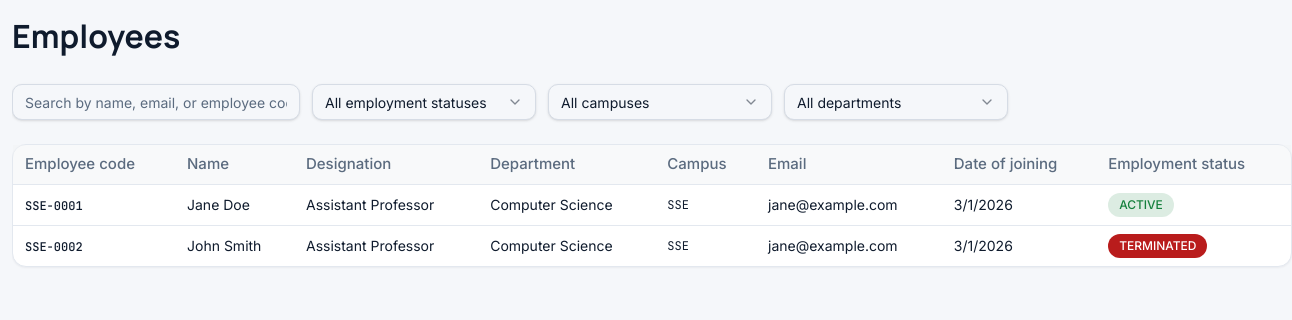
it: EmployeesListPage › narrows the list with the employment status filter
Expected: the text "Jane Doe" is shown, [175, 184, 294, 225]
Expected: the text "John Smith" is shown, [175, 225, 294, 266]
Click the dropdown named "Status filter" at (424, 102), box [312, 84, 536, 120]
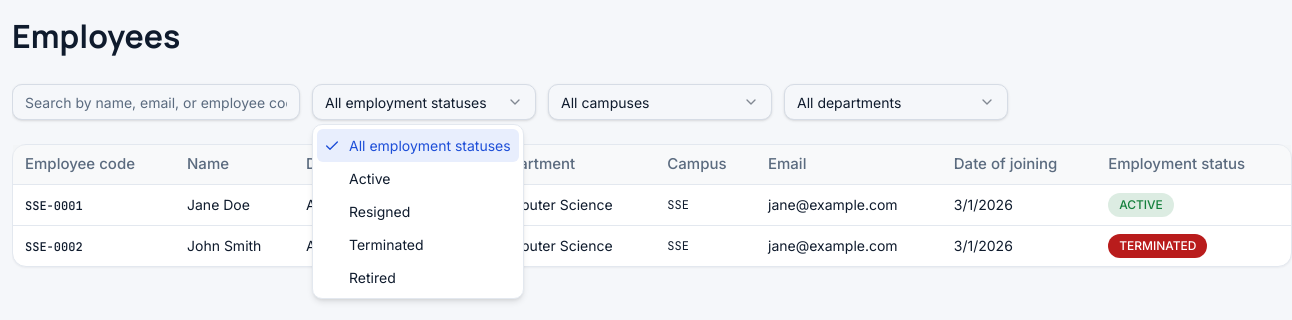
Click the option "Terminated" at (386, 244), box [349, 236, 424, 253]
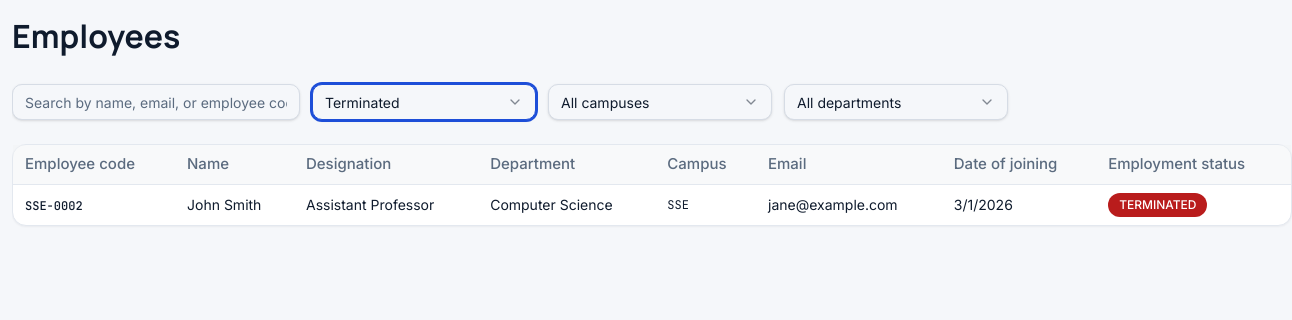
Expected: the text "John Smith" is shown, [175, 184, 294, 224]
Result: the text "Jane Doe" is gone
